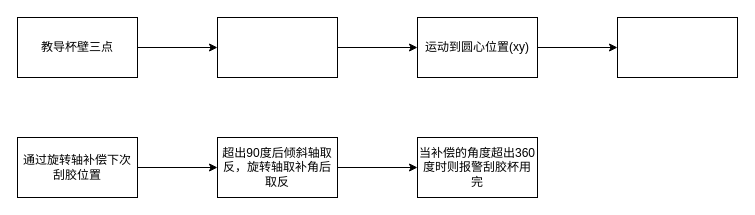
This 755x215 diagram has some shape labels left out. The box of each missing label's shape, as (x1, y1, x2, y2) in pixels:
拟合圆心: (216, 16, 338, 78)
教导Z轴、T轴: (616, 16, 738, 78)
